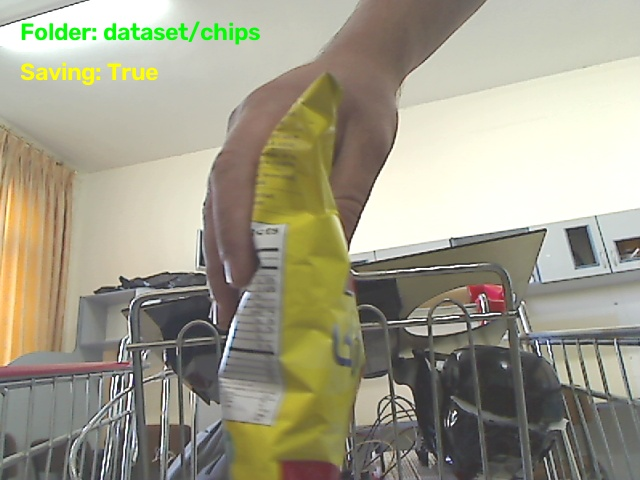chips: (219, 74, 363, 479)
